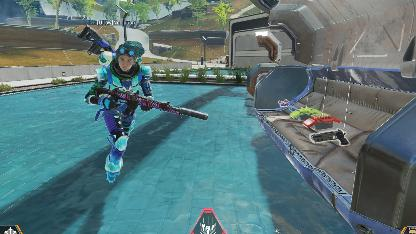Target: (103, 38, 145, 160)
